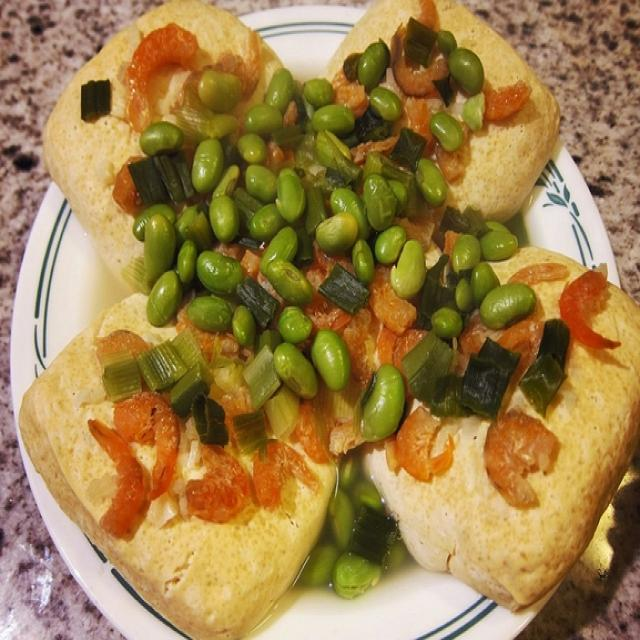豆腐料理: (8, 21, 631, 637)
